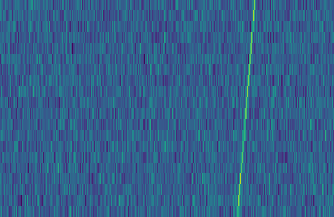signal: (234, 0, 261, 217)
